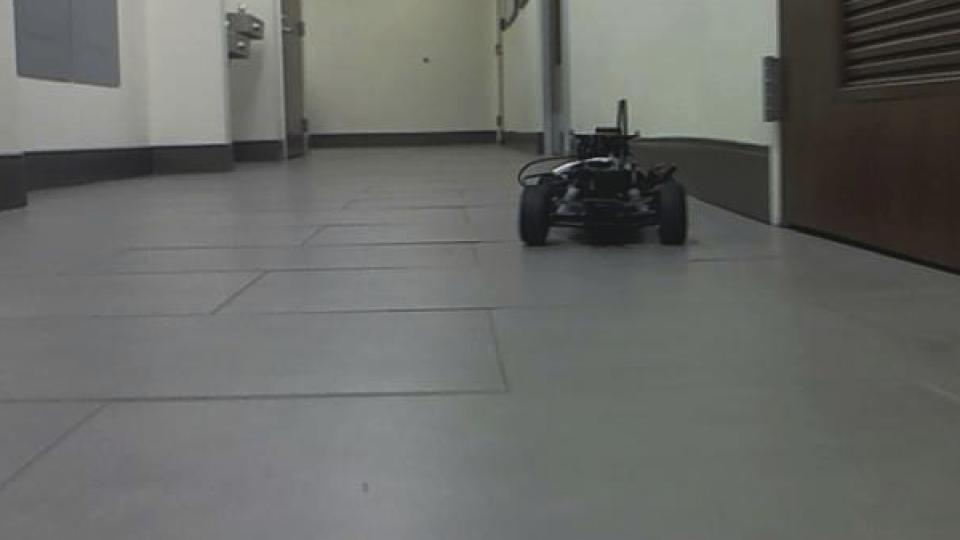car: (515, 98, 693, 251)
